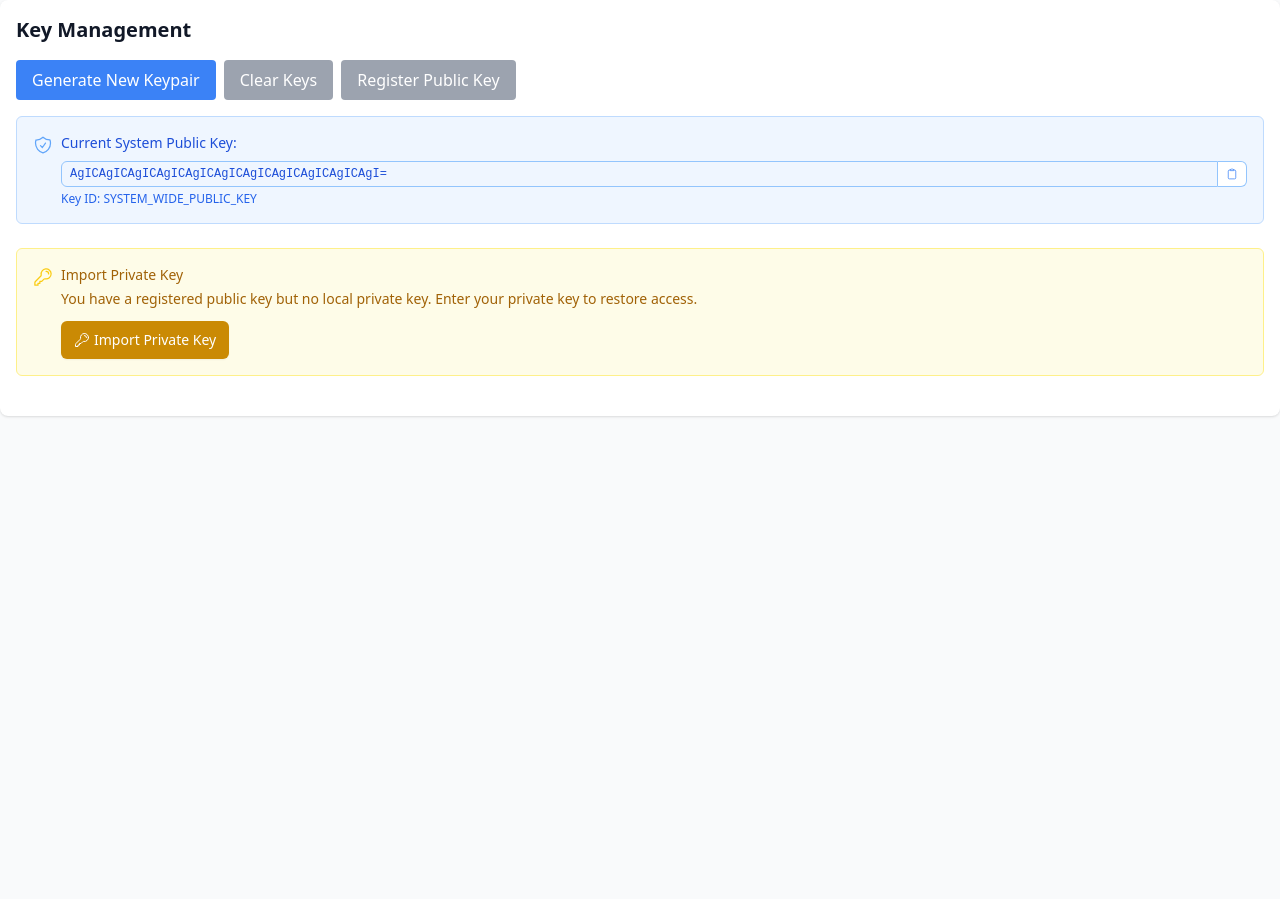
Test: Key lifecycle workflow › displays both public and private keys when generating a keypair
Note: Generate a new keypair
Click the button "Generate New Keypair": point(116, 80) [16, 60, 216, 100]
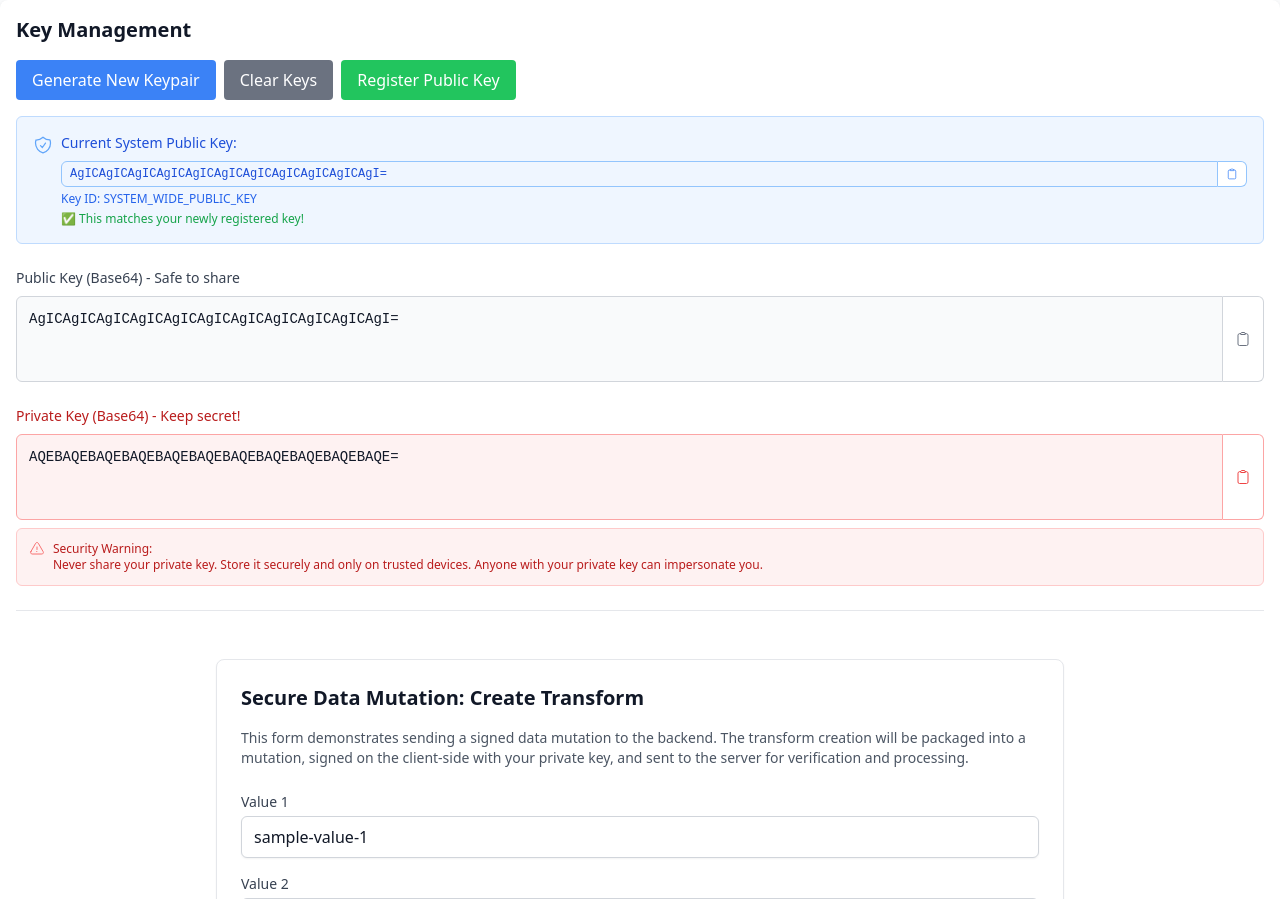
Result: the text "Public Key (Base64) - Safe to share" is shown at [16, 268, 240, 287]
Result: the text "Private Key (Base64) - Keep secret!" is shown at [16, 406, 240, 425]
Result: the text box showing "AgICAgICAgICAgICAgICAgICAgICAgICAgICAgICAgI=" below "Public Key (Base64) - Safe to share" is shown at [16, 296, 1223, 382]
